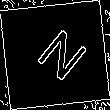N_SW: (23, 23, 87, 87)
